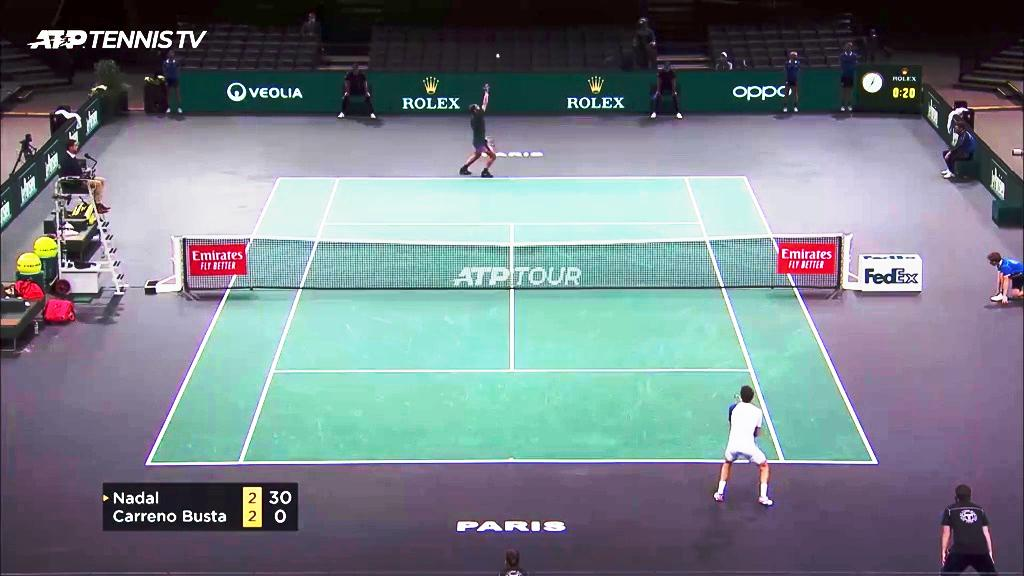tennis-court: (145, 176, 879, 465)
